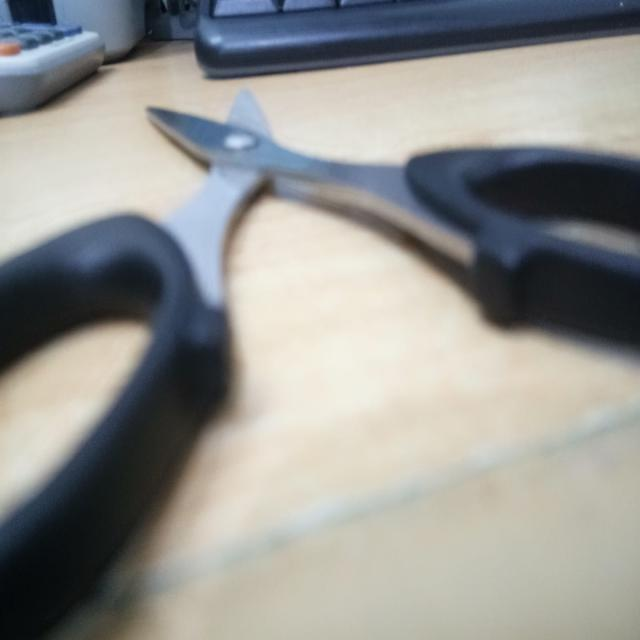scissor: (3, 72, 640, 524)
